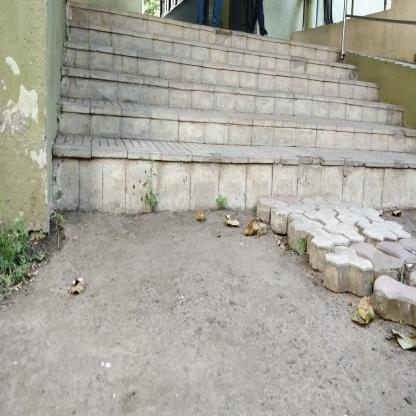stairs: (70, 44, 243, 232)
